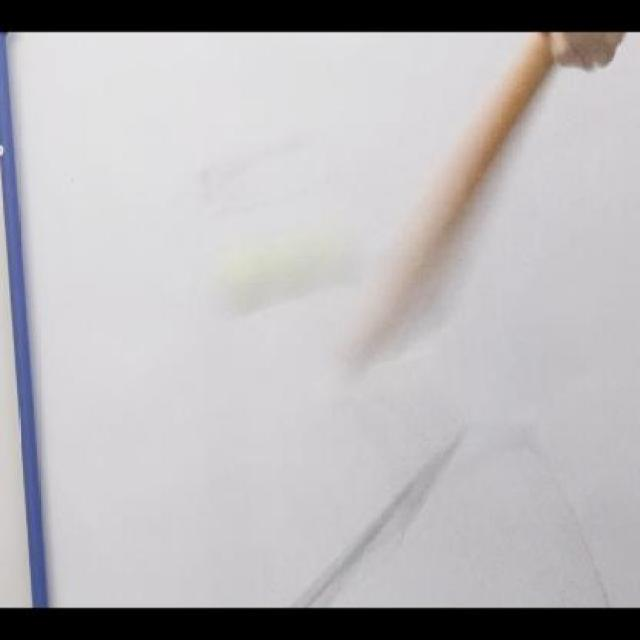baseball: (224, 222, 356, 316)
